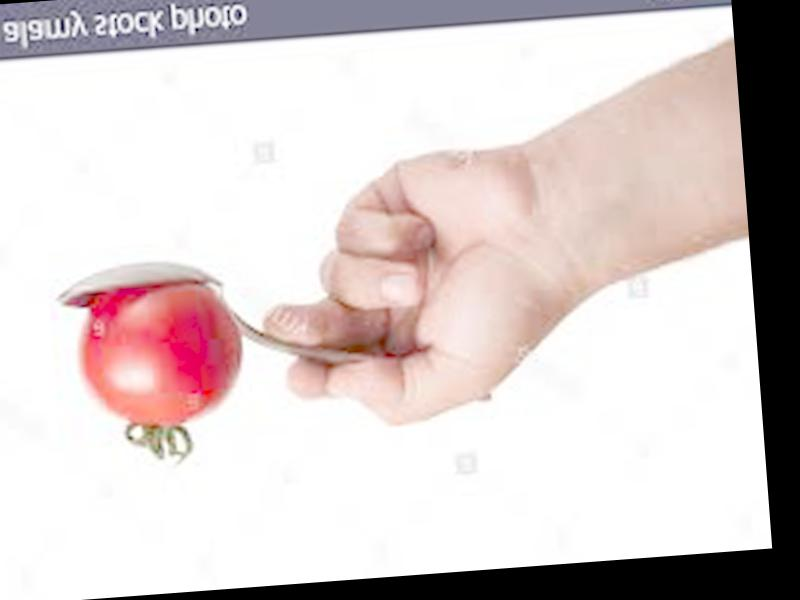Tomato: (76, 280, 248, 432)
